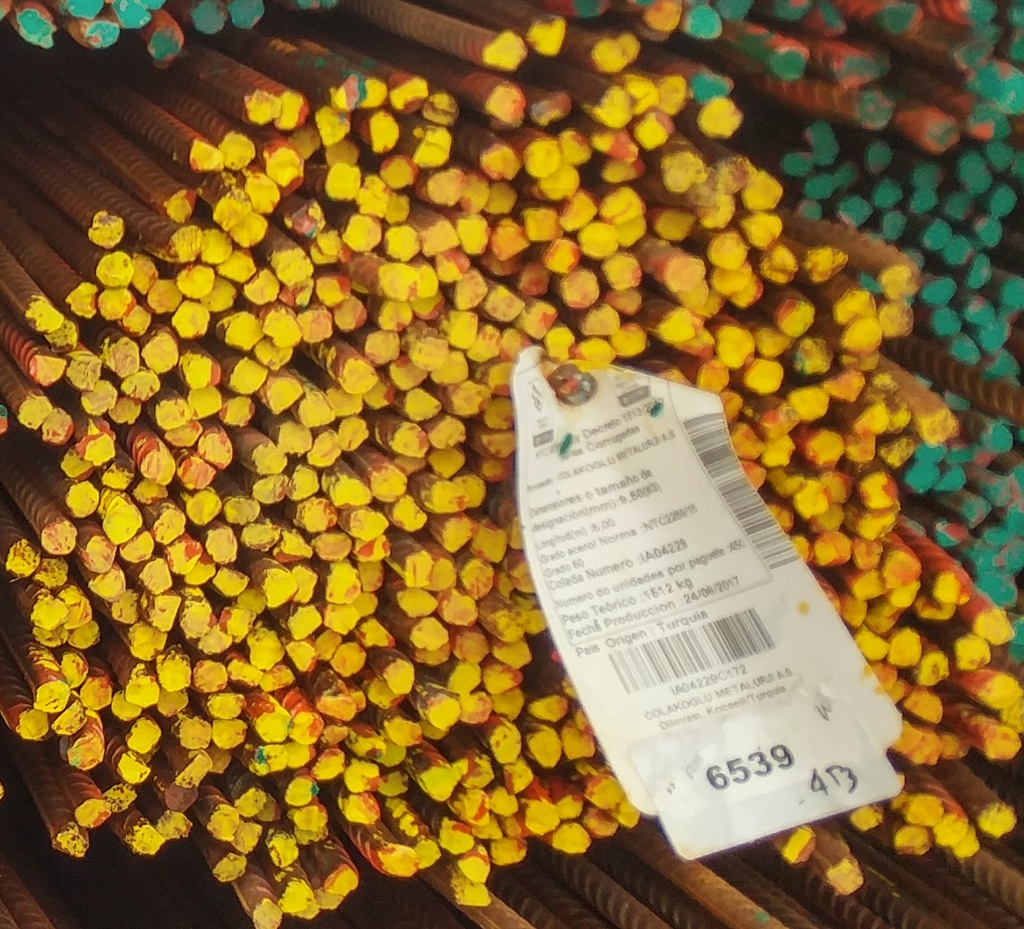dipstick: (484, 84, 525, 128), (524, 14, 566, 56), (697, 98, 742, 137), (267, 150, 305, 195), (661, 153, 706, 191), (490, 218, 531, 259), (467, 520, 507, 562), (480, 656, 524, 694), (588, 130, 638, 163), (484, 31, 527, 69), (561, 268, 600, 309), (714, 156, 755, 195), (212, 189, 250, 230), (804, 247, 848, 282), (388, 73, 427, 112), (523, 138, 562, 177), (902, 693, 941, 732), (16, 9, 54, 49), (438, 590, 478, 628), (717, 326, 754, 367), (556, 195, 598, 231), (740, 213, 782, 249), (822, 367, 866, 401), (413, 127, 451, 166), (171, 301, 210, 339), (331, 476, 372, 512), (970, 103, 1011, 139), (220, 315, 263, 349), (690, 72, 734, 105), (342, 215, 381, 252), (380, 265, 419, 302), (50, 695, 87, 734), (603, 252, 642, 289), (244, 174, 280, 214), (480, 144, 520, 180), (596, 86, 632, 126), (419, 767, 460, 802), (842, 319, 883, 354), (358, 175, 391, 218), (87, 211, 125, 248), (96, 251, 134, 288), (166, 538, 203, 576), (776, 299, 813, 337), (744, 173, 782, 210), (758, 247, 796, 284), (876, 301, 914, 338), (228, 357, 267, 393), (780, 827, 816, 866), (420, 219, 460, 254), (880, 264, 920, 299), (840, 56, 885, 87), (835, 289, 877, 322), (447, 385, 490, 417), (218, 133, 255, 170), (636, 112, 673, 149), (273, 92, 309, 130), (580, 223, 618, 259), (653, 76, 689, 114), (807, 430, 843, 468), (316, 106, 351, 145), (304, 431, 343, 466), (368, 468, 408, 502), (453, 270, 487, 310), (523, 207, 563, 241), (858, 473, 898, 507), (296, 498, 337, 531), (422, 91, 459, 127), (197, 432, 233, 469), (522, 303, 558, 340), (795, 481, 831, 518), (955, 633, 991, 670), (489, 606, 527, 641), (486, 287, 524, 322), (745, 360, 783, 395), (710, 233, 748, 268), (367, 113, 401, 152), (182, 355, 221, 389), (389, 354, 428, 388), (589, 38, 628, 72), (461, 559, 494, 599), (529, 727, 562, 767), (120, 369, 161, 401), (654, 209, 695, 241), (231, 211, 267, 247), (362, 372, 398, 408), (286, 604, 323, 639), (859, 91, 894, 128), (380, 155, 418, 189), (456, 754, 494, 788), (443, 312, 477, 350), (331, 72, 364, 111), (97, 287, 136, 320), (790, 386, 829, 419), (888, 627, 921, 666), (759, 406, 800, 437), (326, 164, 361, 200), (289, 201, 324, 237), (244, 269, 279, 305), (263, 572, 298, 608), (285, 126, 322, 160), (263, 313, 300, 347), (269, 377, 303, 414), (6, 540, 40, 577), (32, 597, 69, 631), (219, 608, 256, 642), (250, 633, 284, 670), (411, 337, 448, 371), (558, 129, 592, 166), (243, 91, 281, 124), (217, 250, 255, 283), (255, 336, 293, 369), (339, 359, 377, 392), (274, 530, 312, 563), (603, 188, 642, 220), (533, 93, 572, 125), (665, 256, 704, 288), (977, 804, 1016, 836), (58, 592, 93, 627), (332, 642, 367, 677), (365, 329, 400, 364), (148, 278, 182, 314), (188, 385, 224, 419), (69, 736, 105, 770), (127, 718, 161, 754), (613, 323, 649, 357), (544, 166, 580, 200), (560, 723, 594, 759), (685, 5, 721, 39), (795, 339, 831, 373), (102, 510, 139, 543), (89, 570, 126, 603), (391, 423, 428, 456), (433, 248, 470, 281), (660, 308, 697, 341), (985, 675, 1022, 708), (299, 394, 337, 426), (381, 844, 419, 876), (410, 618, 448, 650), (933, 573, 972, 604), (397, 587, 437, 617), (490, 729, 525, 763), (489, 687, 523, 722), (439, 517, 473, 552), (433, 352, 468, 386), (429, 169, 463, 204), (200, 228, 233, 264), (385, 227, 421, 260), (68, 353, 101, 389), (152, 509, 185, 545), (205, 527, 238, 563), (438, 820, 474, 853), (456, 218, 489, 254), (466, 325, 499, 361), (731, 423, 764, 459), (297, 310, 334, 342), (203, 276, 235, 313), (33, 681, 70, 713), (318, 690, 355, 722), (554, 823, 591, 855), (770, 47, 807, 79), (367, 677, 405, 708), (477, 428, 515, 459), (581, 304, 619, 335), (348, 509, 387, 539), (143, 339, 177, 373), (326, 570, 360, 604), (277, 421, 312, 454), (179, 457, 214, 490), (40, 521, 75, 554), (131, 626, 166, 659), (192, 660, 227, 693), (546, 237, 579, 272), (694, 362, 729, 395), (828, 861, 863, 894), (176, 266, 212, 298), (140, 558, 172, 594), (926, 116, 958, 152), (878, 435, 914, 467), (976, 610, 1012, 642), (43, 319, 80, 350), (213, 566, 250, 597), (403, 389, 440, 420), (882, 555, 919, 586), (906, 794, 943, 825), (85, 535, 115, 573), (358, 617, 396, 647), (429, 419, 467, 449), (131, 252, 158, 294), (73, 799, 112, 828), (492, 641, 531, 670), (428, 482, 467, 511), (459, 175, 488, 214), (332, 296, 365, 330), (82, 380, 116, 413), (186, 492, 220, 525), (151, 596, 184, 630), (526, 799, 559, 833), (112, 1, 152, 29), (172, 226, 204, 261), (67, 283, 99, 318), (67, 482, 99, 517), (429, 444, 464, 476), (816, 532, 851, 564), (853, 628, 888, 660), (42, 408, 73, 444), (155, 809, 191, 840), (727, 275, 763, 306), (953, 40, 989, 71), (76, 434, 113, 464), (490, 836, 527, 866), (756, 327, 793, 357), (884, 3, 921, 33), (142, 451, 175, 484), (18, 395, 51, 428), (428, 697, 461, 730), (460, 691, 493, 724), (393, 496, 426, 529), (519, 262, 552, 295), (316, 274, 350, 306), (156, 397, 190, 429), (280, 880, 312, 914), (266, 832, 298, 866), (189, 141, 224, 172), (221, 396, 256, 427), (62, 445, 93, 480), (284, 641, 319, 672), (345, 761, 380, 792), (576, 338, 616, 365), (386, 716, 423, 745), (327, 385, 364, 414), (278, 278, 316, 306), (252, 475, 290, 503), (312, 531, 350, 559), (859, 509, 897, 537), (894, 826, 932, 854), (193, 1, 226, 33), (121, 530, 154, 562), (36, 555, 68, 588), (290, 711, 323, 743), (483, 398, 515, 431), (625, 78, 657, 111), (923, 411, 956, 443), (987, 728, 1020, 760), (584, 806, 618, 837), (242, 523, 281, 550), (712, 264, 751, 291), (278, 253, 313, 283), (105, 347, 140, 377), (110, 588, 139, 624), (338, 416, 367, 452), (166, 418, 203, 446), (104, 457, 136, 489), (207, 806, 239, 838), (449, 661, 481, 693), (427, 558, 459, 590), (165, 189, 196, 222), (158, 659, 191, 690), (228, 659, 261, 690), (313, 748, 346, 779), (383, 661, 414, 694), (482, 184, 515, 215), (480, 450, 513, 481), (253, 444, 287, 474), (377, 300, 411, 330), (852, 403, 886, 433), (918, 652, 948, 686), (125, 678, 160, 707), (852, 571, 887, 600), (179, 610, 215, 638), (453, 632, 489, 660), (51, 831, 88, 858), (342, 795, 379, 822), (199, 622, 231, 653), (81, 677, 112, 709), (231, 821, 262, 853), (257, 712, 289, 743), (458, 792, 490, 823), (502, 763, 533, 795), (839, 196, 871, 227), (288, 466, 318, 499), (118, 754, 151, 784), (103, 783, 136, 813), (454, 475, 484, 508), (58, 653, 87, 687), (212, 719, 246, 748), (646, 1, 680, 30), (84, 20, 119, 48), (405, 550, 432, 586), (411, 293, 447, 320), (529, 695, 566, 721), (148, 29, 179, 60), (763, 436, 794, 467), (971, 215, 1002, 246), (325, 604, 357, 634), (166, 779, 196, 811), (179, 719, 211, 749), (325, 867, 358, 896), (230, 1, 264, 29), (129, 827, 164, 854), (209, 691, 244, 718), (324, 138, 360, 164), (121, 305, 151, 336), (33, 355, 64, 385), (17, 709, 48, 739), (157, 687, 188, 717), (180, 751, 211, 781), (618, 216, 648, 247), (554, 787, 584, 818), (987, 185, 1017, 216), (934, 816, 966, 845), (212, 852, 245, 880), (485, 362, 513, 395), (500, 328, 528, 361), (904, 466, 937, 494), (458, 857, 492, 884), (291, 567, 317, 602), (359, 78, 389, 108), (867, 140, 892, 176), (931, 308, 961, 338), (921, 219, 951, 249), (356, 561, 385, 592), (845, 432, 876, 461), (949, 336, 981, 364), (924, 277, 956, 305), (910, 161, 942, 189), (134, 476, 167, 503), (226, 497, 259, 524), (233, 789, 266, 816), (256, 744, 286, 773), (489, 787, 519, 816), (593, 777, 622, 807), (873, 180, 903, 209), (109, 396, 141, 423), (354, 536, 390, 560), (68, 622, 101, 648), (295, 805, 328, 831), (851, 804, 884, 830), (113, 691, 142, 720), (254, 899, 282, 929), (677, 279, 707, 307), (854, 539, 882, 569), (982, 425, 1012, 453), (964, 297, 994, 325), (941, 236, 971, 264), (384, 192, 411, 223), (285, 741, 316, 768), (935, 464, 966, 491), (285, 778, 317, 804), (32, 622, 68, 645), (314, 631, 341, 661), (955, 151, 985, 178), (967, 255, 992, 287), (917, 598, 955, 619), (318, 226, 345, 255), (800, 176, 834, 199), (308, 238, 338, 264), (783, 151, 814, 176), (936, 522, 967, 547), (613, 288, 641, 315), (381, 769, 410, 795), (909, 188, 938, 214), (379, 741, 407, 767), (944, 194, 972, 220), (31, 310, 64, 332), (881, 211, 906, 240), (67, 1, 104, 20), (415, 841, 440, 869), (415, 645, 448, 666), (889, 584, 920, 606), (842, 600, 867, 627), (953, 832, 978, 859), (806, 122, 836, 144), (1002, 279, 1024, 308), (207, 748, 232, 772), (1002, 545, 1024, 572), (834, 162, 858, 186), (324, 723, 348, 746), (356, 593, 379, 616), (796, 198, 821, 219), (816, 143, 839, 165), (423, 723, 449, 741)
